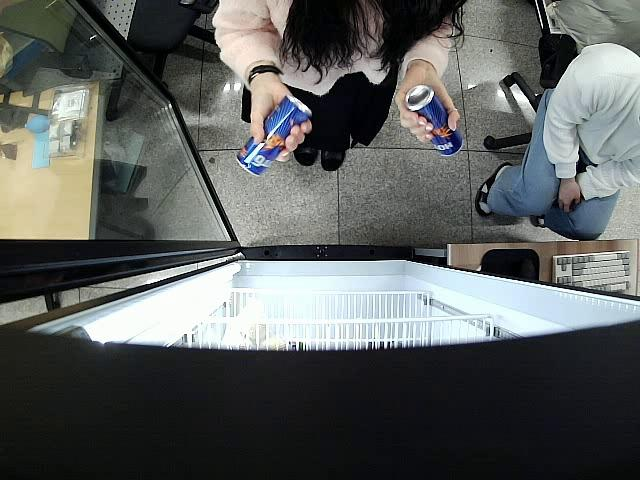00_hand: (250, 87, 312, 164), (394, 74, 460, 144), (557, 179, 583, 214)
16_hot6: (235, 96, 311, 175), (405, 86, 464, 159)
